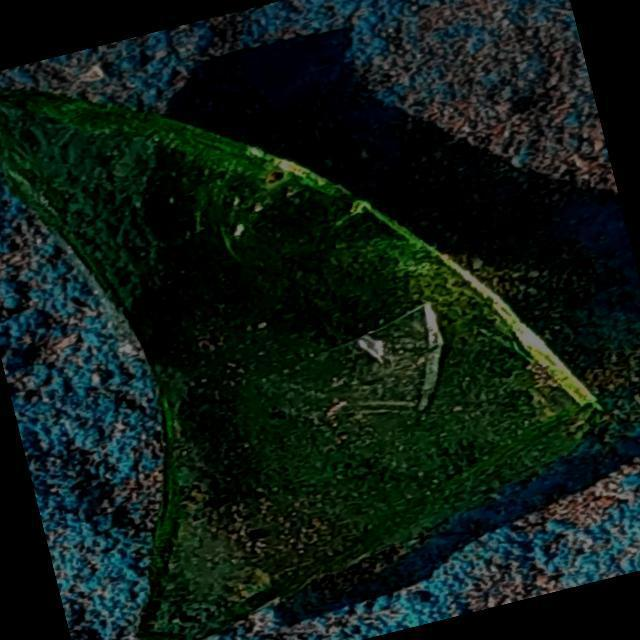Dry: (2, 90, 597, 640)
